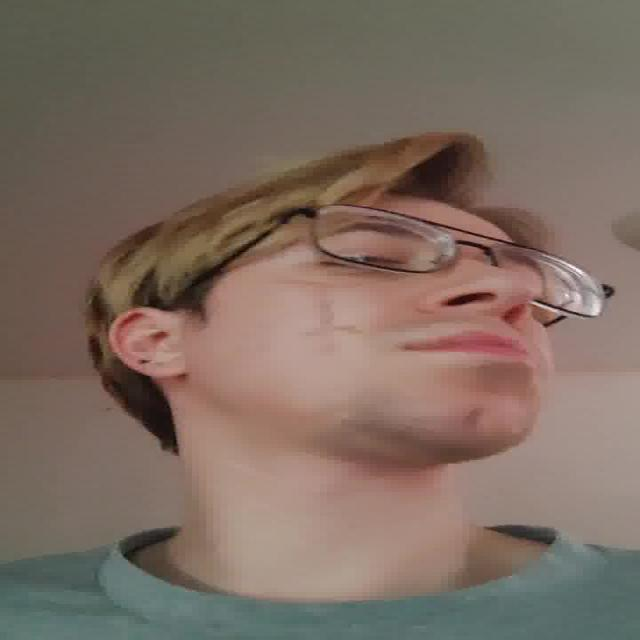earlobe: (107, 307, 191, 379)
